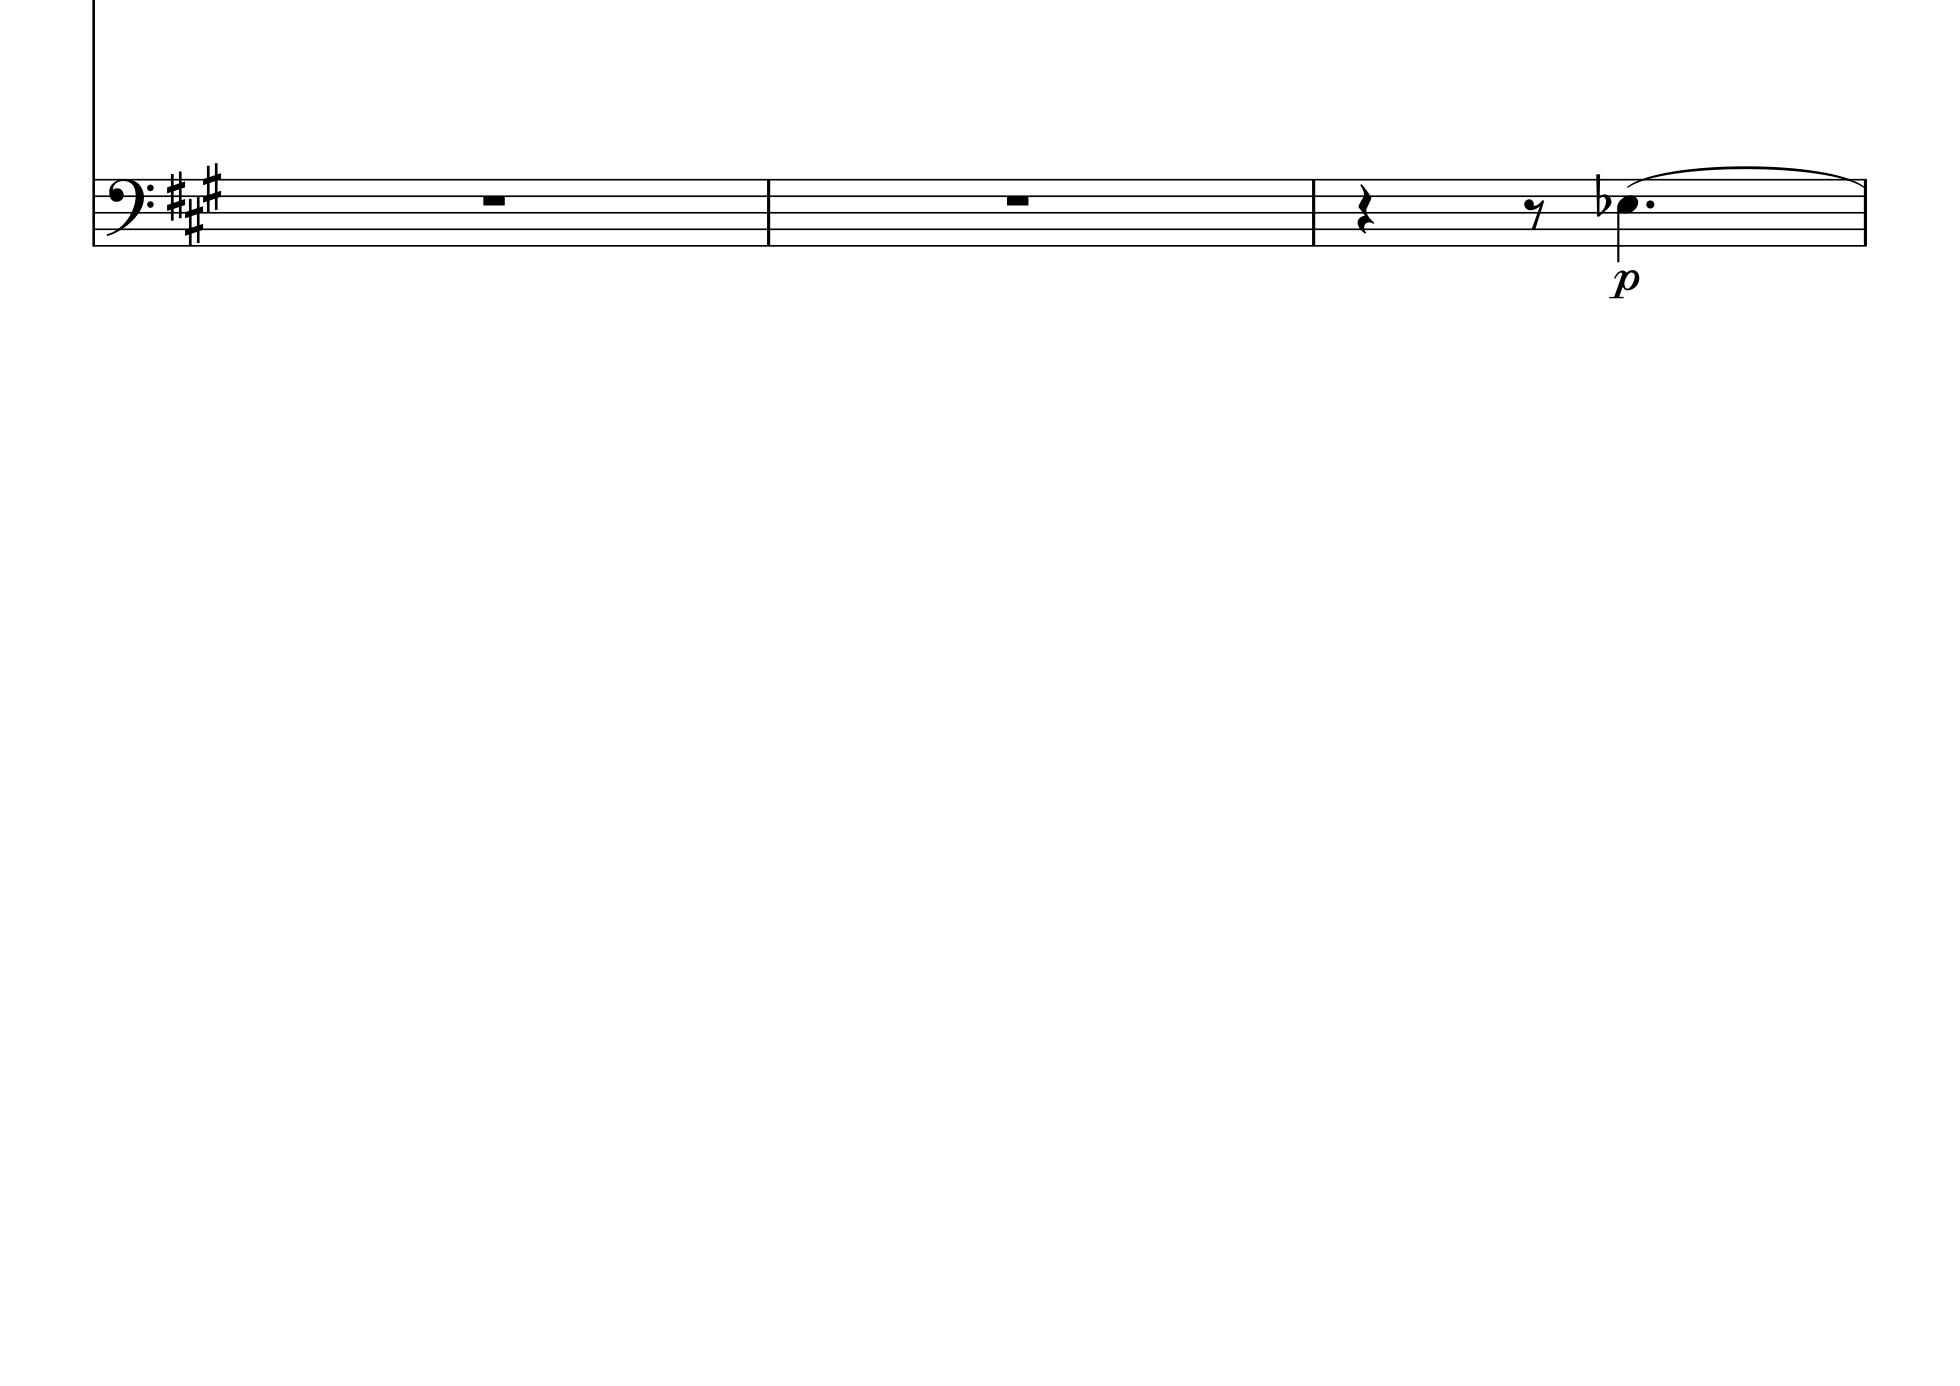2_5: (1615, 177, 1639, 262)
A_S: (163, 160, 223, 246)
Fclef: (106, 178, 154, 247)
Flat: (1593, 172, 1614, 216)
Rests1: (1002, 190, 1035, 208), (478, 192, 508, 208)
Rests4: (1354, 183, 1374, 232)
Rests8: (1521, 196, 1548, 229)
Single_barline: (1305, 178, 1323, 246), (760, 178, 778, 246), (85, 178, 100, 246), (1858, 180, 1873, 244)
Slur: (1615, 162, 1854, 187)
dot: (1644, 196, 1657, 211)
p: (1609, 268, 1641, 300)
